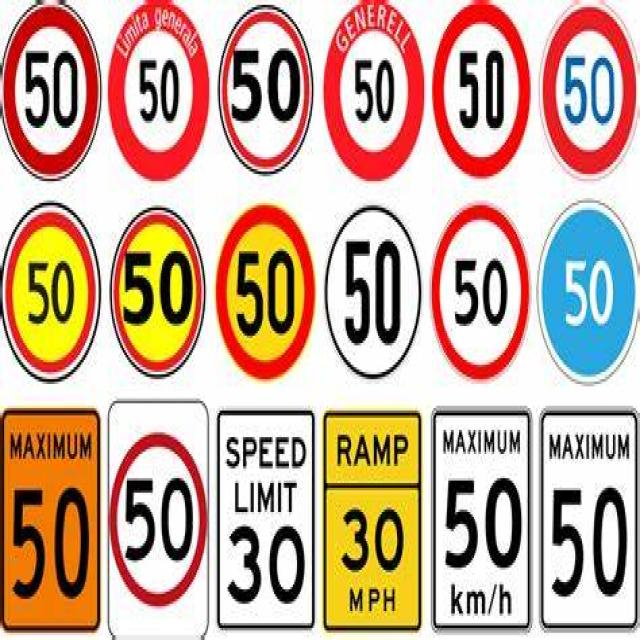speedLimit30: (215, 406, 313, 632)
